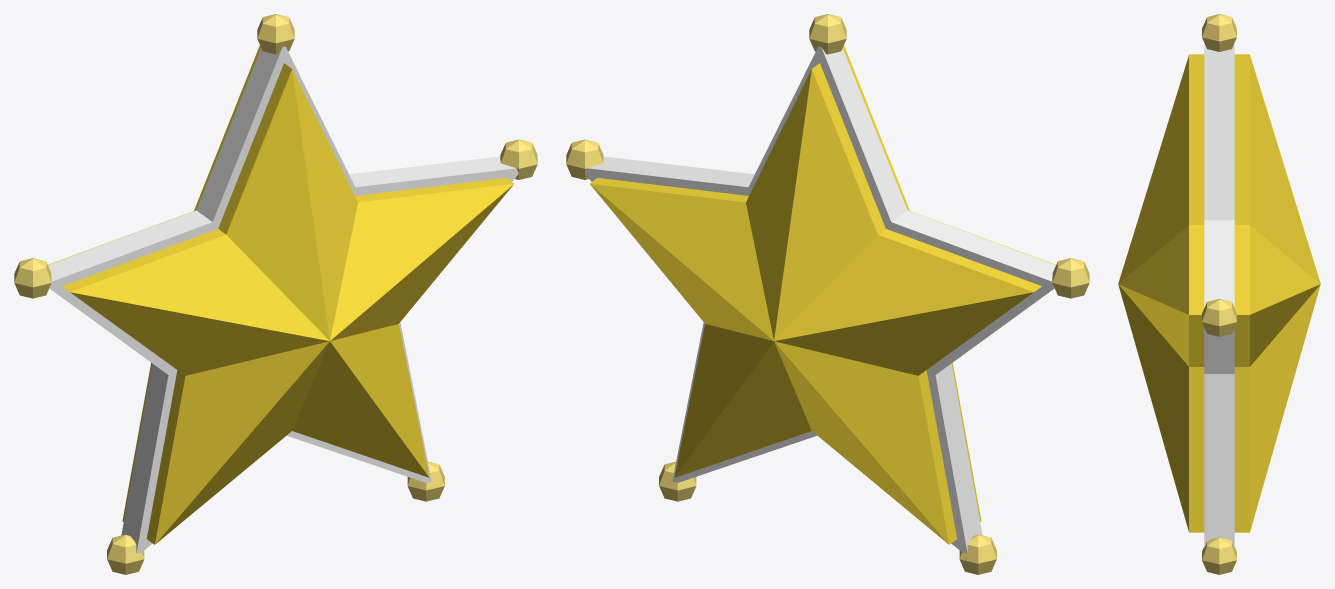
Rendered from warpstar.obj.
3 views of the same model, side by side, from view 1: azimuth 30°, elevation 25°; view 2: azimuth 150°, elevation 25°; view 3: azimuth 270°, elevation 25° (orthographic). The views are drawn at different scales.
Bounding box in the file's own units: 3.36 × 3.21 × 1.2.
